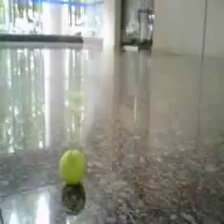tennis: (60, 150, 85, 183)
